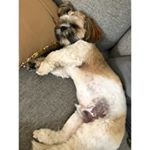puppy: (46, 1, 108, 88)
